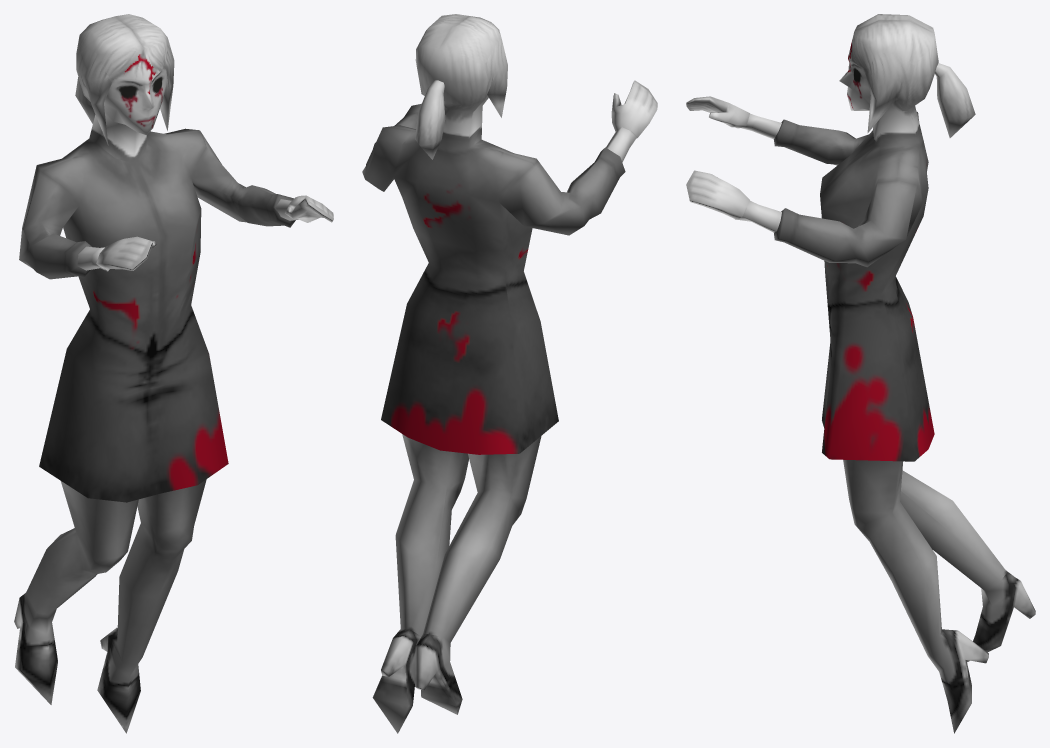
File: Ghost.fbx
3 views of the same model, side by side, from view 1: azimuth 30°, elevation 25°; view 2: azimuth 150°, elevation 25°; view 3: azimuth 270°, elevation 25° (orthographic). The views are drawn at different scales.
Parts seen in each view (by area): view 1: Ghost; view 2: Ghost; view 3: Ghost.
Boxes of the visible parts, x1=… form: Ghost: x1=14, y1=14, x2=333, y2=733; Ghost: x1=362, y1=14, x2=657, y2=733; Ghost: x1=686, y1=14, x2=1035, y2=733.
Size of the model in its own units: 56.48 by 169 by 76.9.
